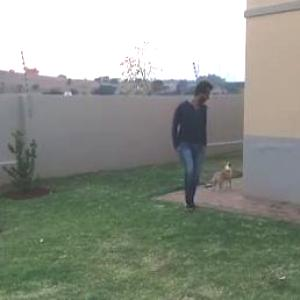follow: (172, 74, 215, 218)
